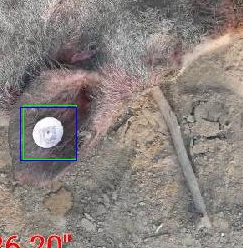text: (23, 105, 76, 159)
